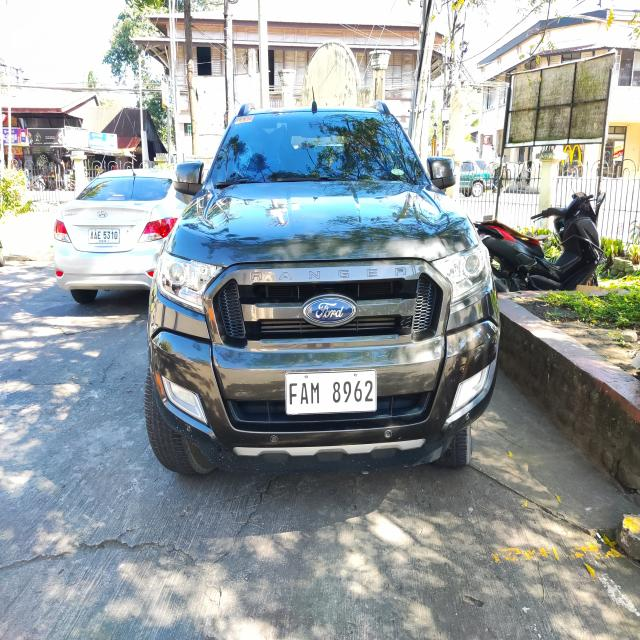plate: (283, 367, 380, 418)
